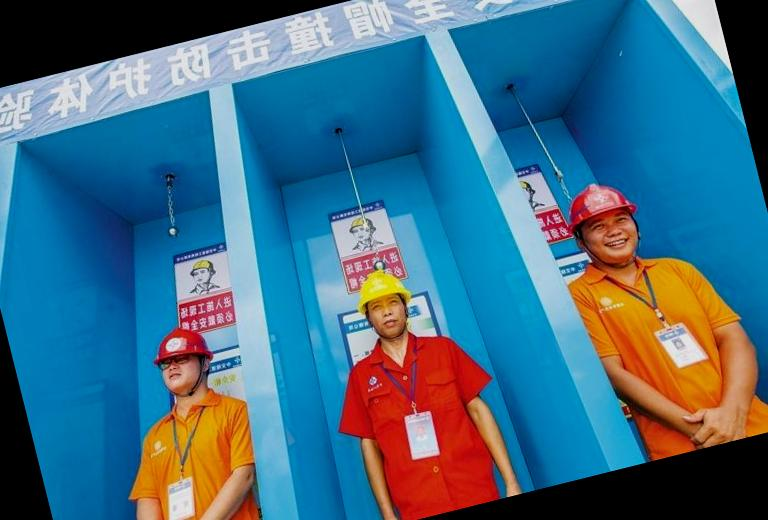helmet: (556, 168, 648, 254), (141, 315, 224, 392), (343, 255, 420, 328)
no_vest: (580, 241, 737, 433), (347, 322, 490, 502), (127, 381, 270, 520)
person: (545, 149, 768, 468), (300, 245, 525, 520), (86, 310, 280, 520)
